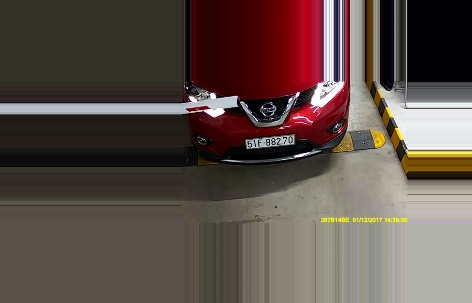plate: (242, 132, 297, 150)
